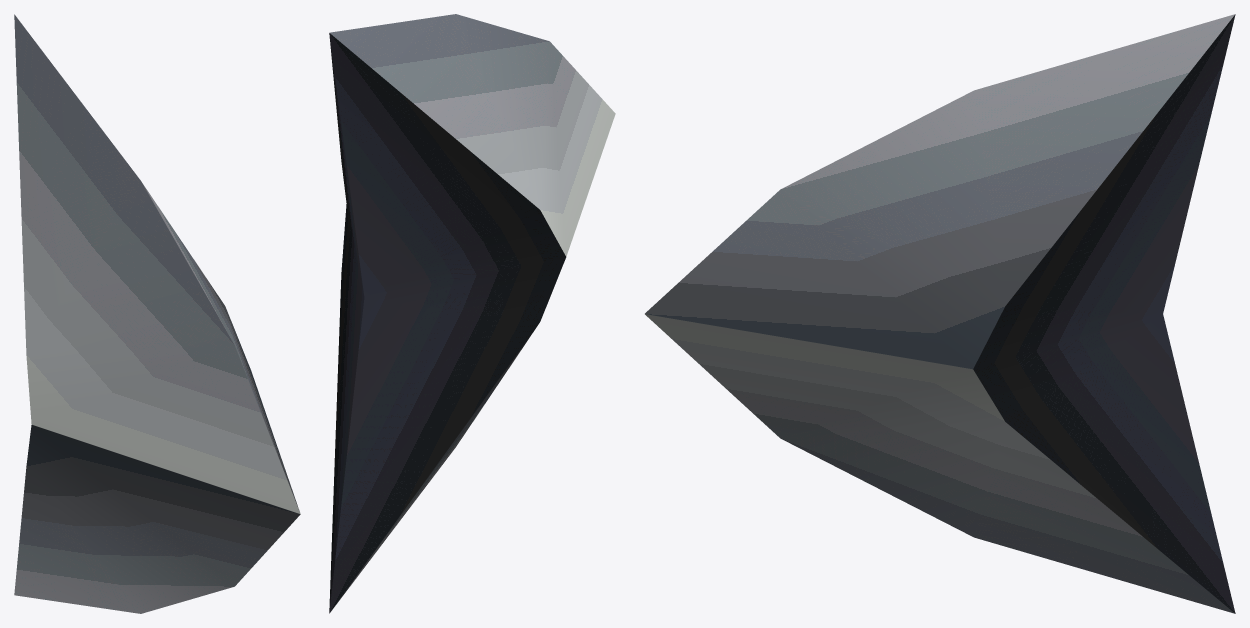
Rendered from hook_model.obj.
3 views of the same model, side by side, from view 1: azimuth 30°, elevation 25°; view 2: azimuth 150°, elevation 25°; view 3: azimuth 270°, elevation 25° (orthographic). The views are drawn at different scales.
Parts seen in each view (by area): view 1: nodes_3__meshes[1]; view 2: nodes_2__meshes[0], nodes_3__meshes[1]; view 3: nodes_3__meshes[1], nodes_2__meshes[0].
Part boxes in pixels (<box>): nodes_3__meshes[1]: <box>14,14,300,613</box>; nodes_2__meshes[0]: <box>329,33,566,613</box>; nodes_3__meshes[1]: <box>329,14,615,608</box>; nodes_3__meshes[1]: <box>645,14,1235,613</box>; nodes_2__meshes[0]: <box>973,14,1235,613</box>.
Bounding box in the file's own units: 315 × 795 × 710.
2 materials, 2 textured.
